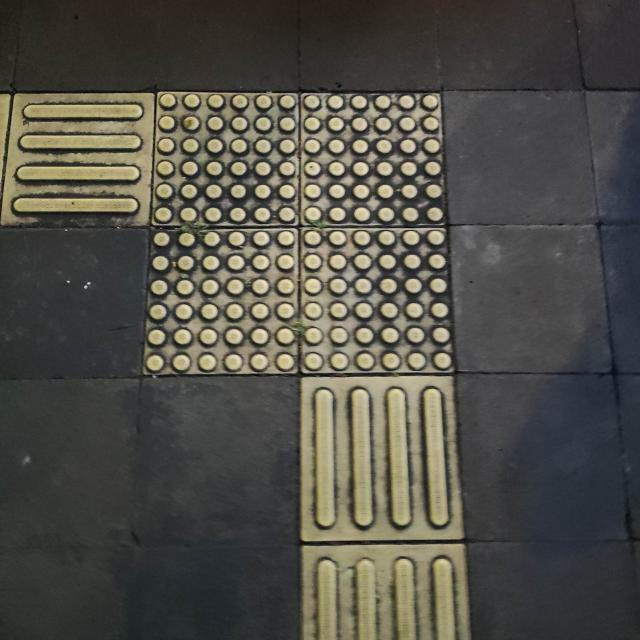kiri: (11, 52, 522, 430)
